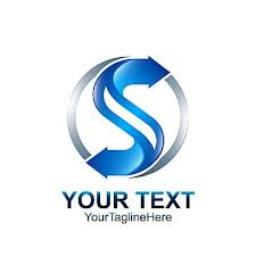y: (82, 53, 174, 181)
